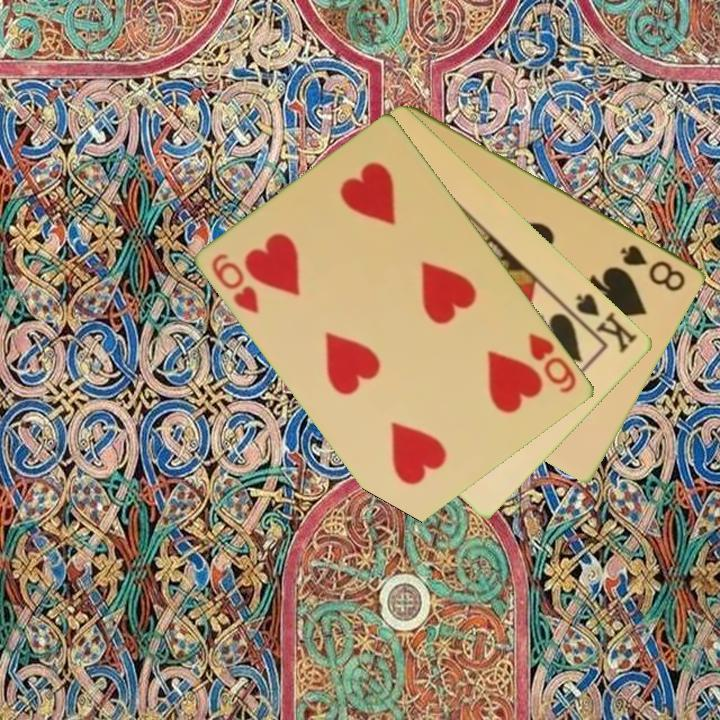6h: (525, 329, 581, 397), (208, 249, 263, 317)
8s: (617, 241, 689, 295)
Ks: (563, 290, 641, 356)
